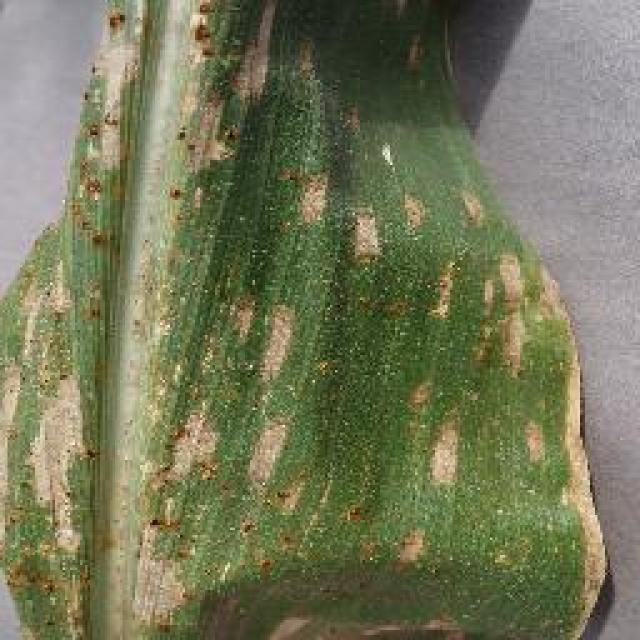Corn___Cercospora_leaf_spot Gray_leaf_spot: (3, 0, 625, 640)
